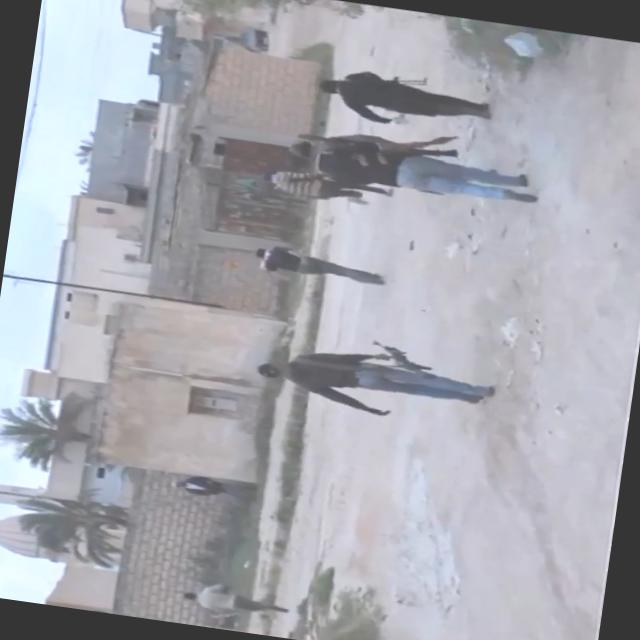long weapon: (359, 336, 438, 378)
